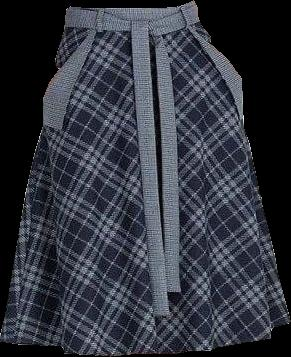Hemline: (0, 316, 290, 355)
Waistline: (65, 1, 197, 20), (63, 18, 201, 34)
